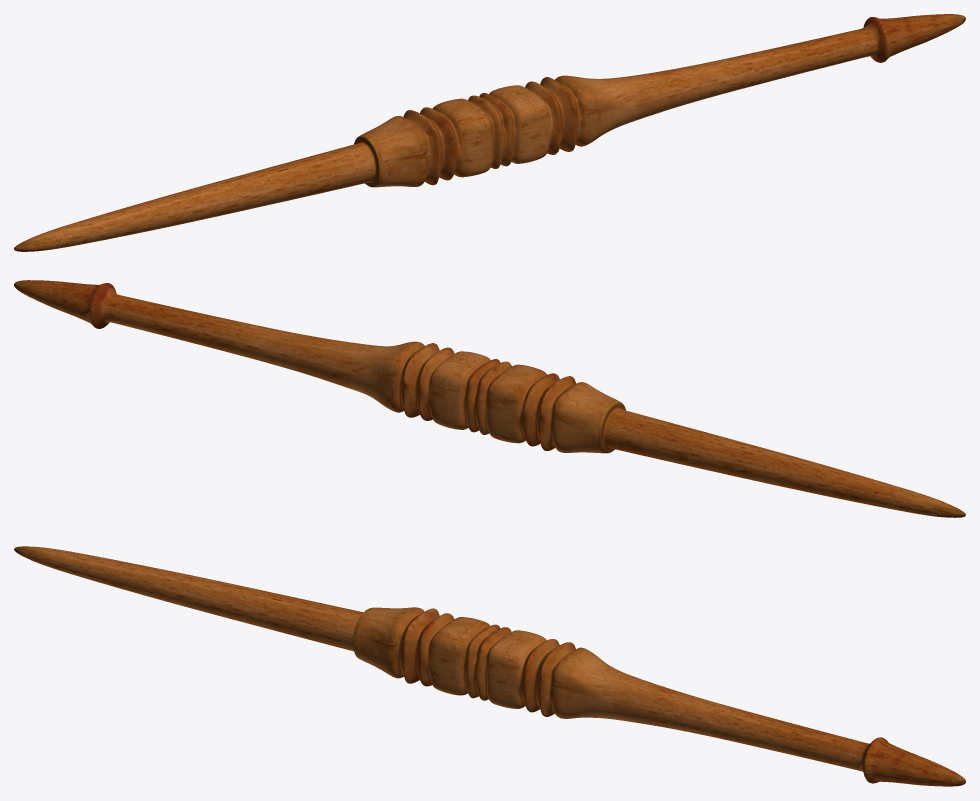
The model's file is vreteno.glb.
3 renders of one model, top to bottom at view 1: azimuth 30°, elevation 25°; view 2: azimuth 150°, elevation 25°; view 3: azimuth 330°, elevation 25°, orthographic.
Bounding box in the file's own units: 1.9 × 0.1201 × 0.1222.
Materials: 1 (1 with a texture image).
